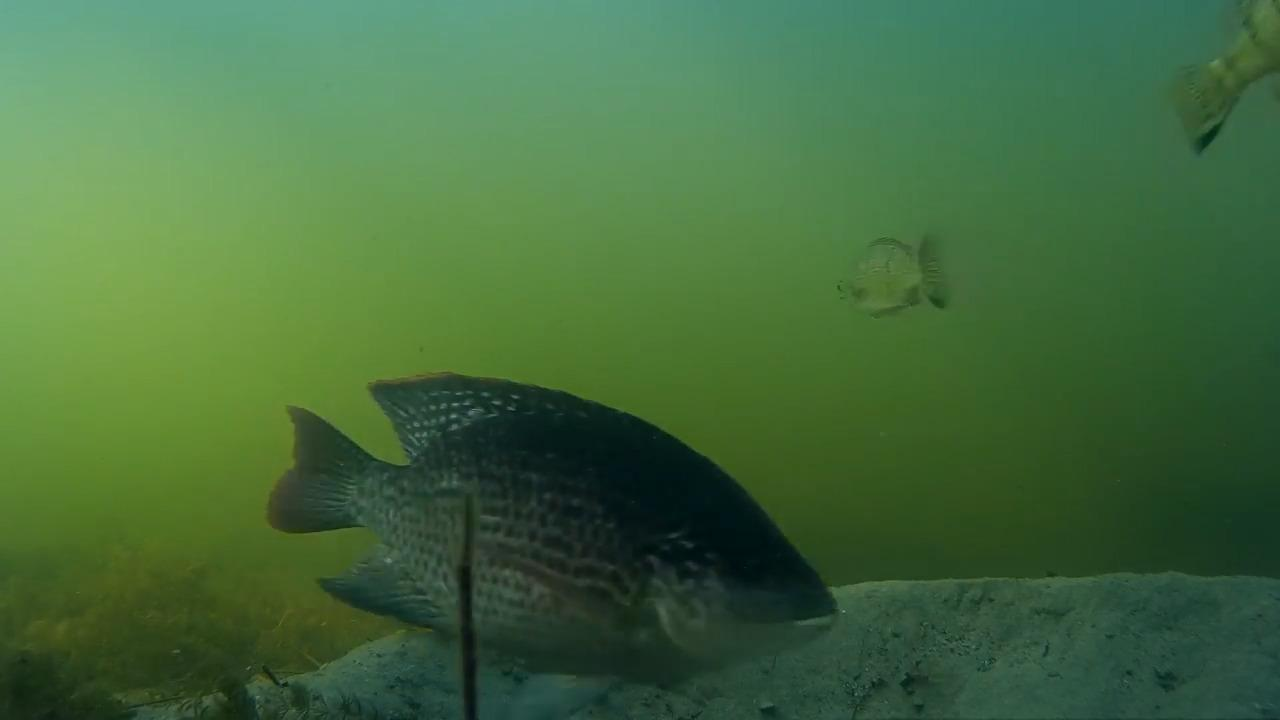Tilapia: (259, 360, 858, 690), (1143, 0, 1280, 166), (825, 232, 960, 334)
